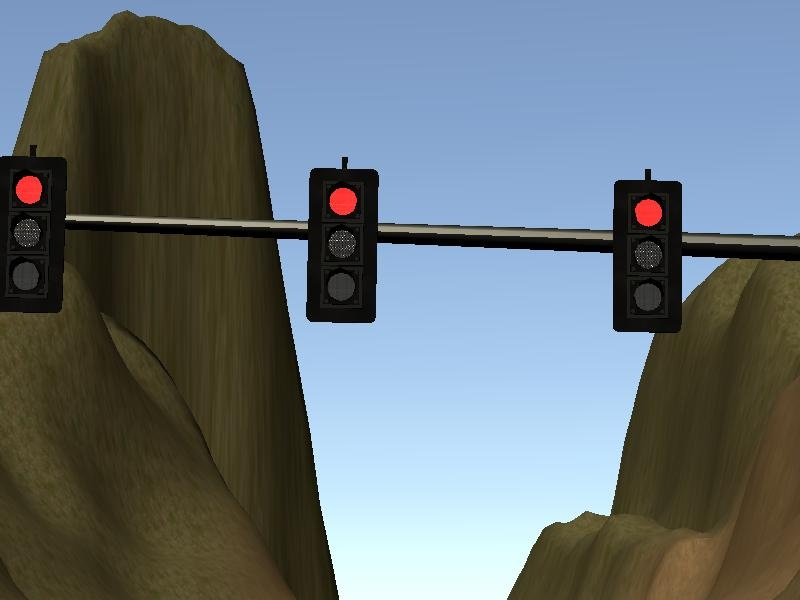RED: (307, 167, 378, 323), (611, 180, 682, 336), (1, 156, 65, 312)
